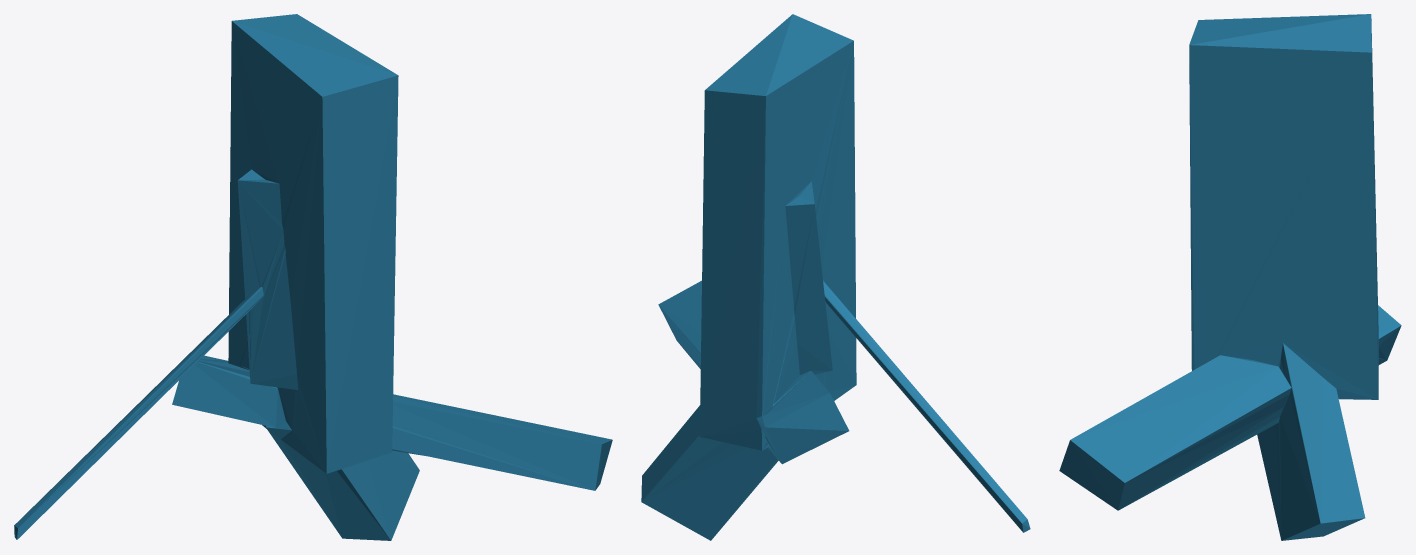
3 views of the same model, side by side, from view 1: azimuth 30°, elevation 25°; view 2: azimuth 150°, elevation 25°; view 3: azimuth 270°, elevation 25° (orthographic). The views are drawn at different scales.
Parts seen in each view (by area): view 1: 195_Cube.808; view 2: 195_Cube.808; view 3: 195_Cube.808.
Part boxes in pixels (x1=…): 195_Cube.808: x1=14, y1=14, x2=612, y2=540; 195_Cube.808: x1=641, y1=14, x2=1030, y2=540; 195_Cube.808: x1=1059, y1=14, x2=1401, y2=540.
Size of the model in its own units: 16.17 by 16.1 by 10.32.
